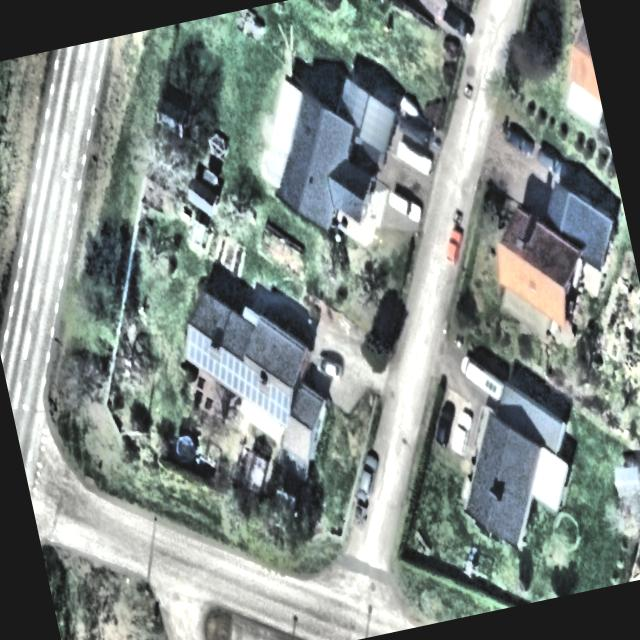roof_pv: (214, 346, 262, 402), (180, 324, 216, 376), (256, 381, 292, 427)
